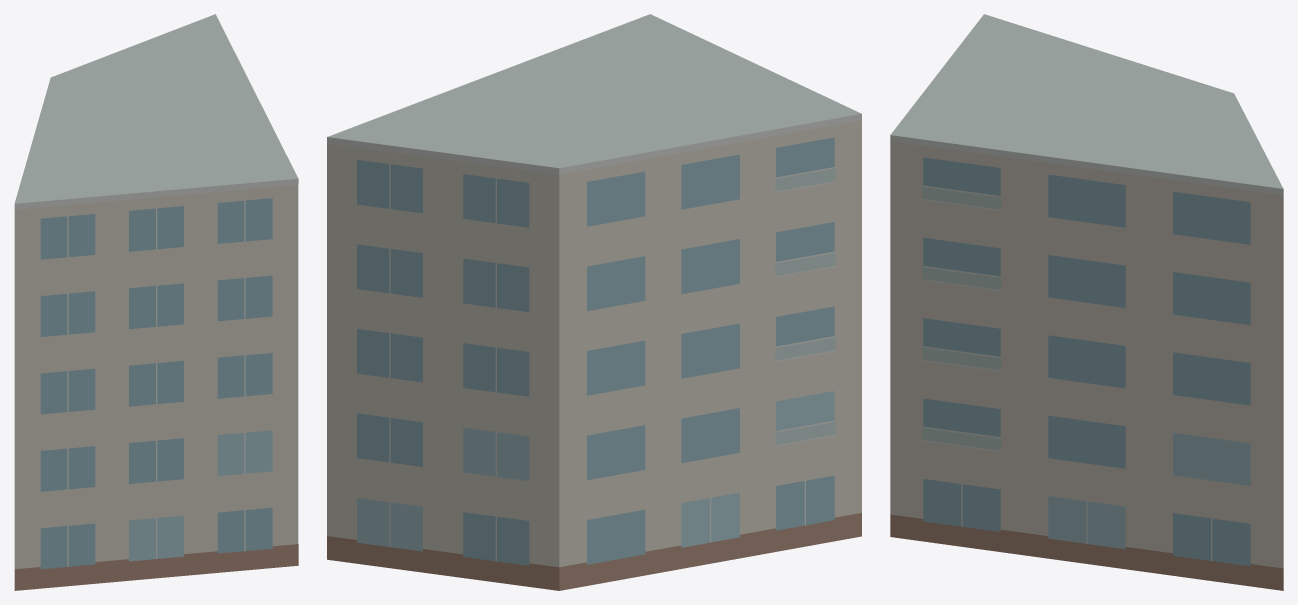
Rendered from survey-upis-32716605.glb.
3 renders of one model, left to right at view 1: azimuth 30°, elevation 25°; view 2: azimuth 150°, elevation 25°; view 3: azimuth 270°, elevation 25°, orthographic. The views are drawn at different scales.
Visible parts, largest first — view 1: survey-upis-32716605.tmp; view 2: survey-upis-32716605.tmp; view 3: survey-upis-32716605.tmp.
Boxes of the visible parts, left/top/right/bottom form: survey-upis-32716605.tmp: left=14, top=14, right=298, bottom=590; survey-upis-32716605.tmp: left=327, top=14, right=861, bottom=590; survey-upis-32716605.tmp: left=890, top=14, right=1283, bottom=590.
Bounding box in the file's own units: 14.86 × 15.9 × 14.12.
